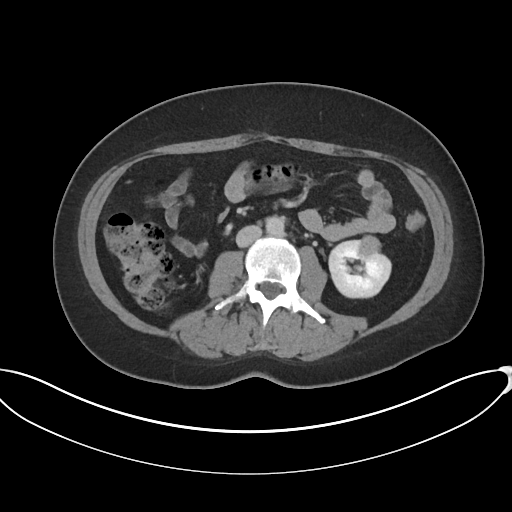Lesion: (356, 235, 382, 259)
